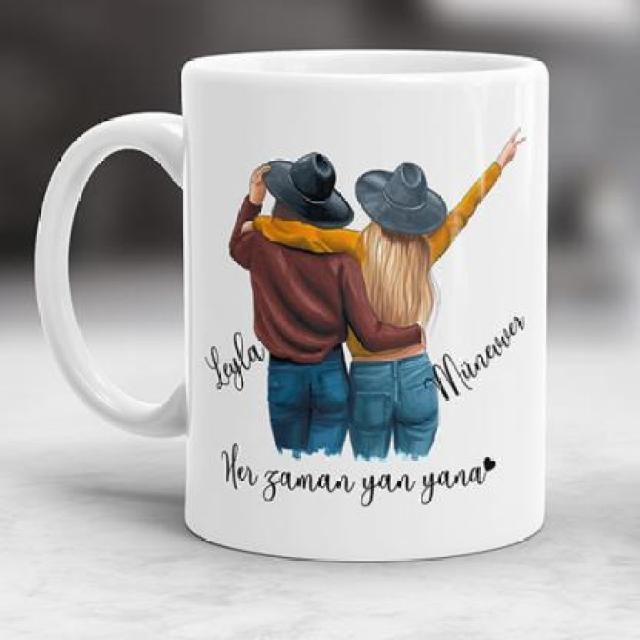taza: (34, 48, 548, 558)
